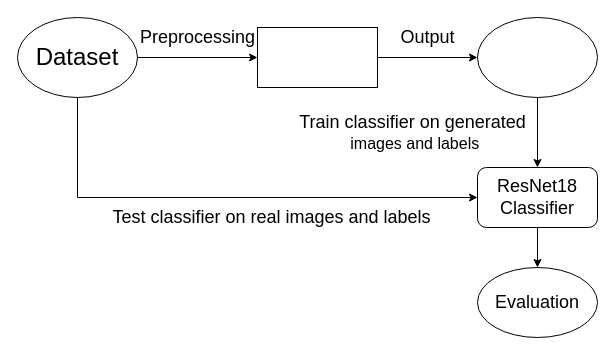
Some shapes in this 615 by 355 pixel diagram are drawn without their labels. Each missing label, with the centre of its shape:
"ACGAN / ACWGAN" goes at point (317, 57).
"Synthetic images (with class)" goes at point (537, 57).
